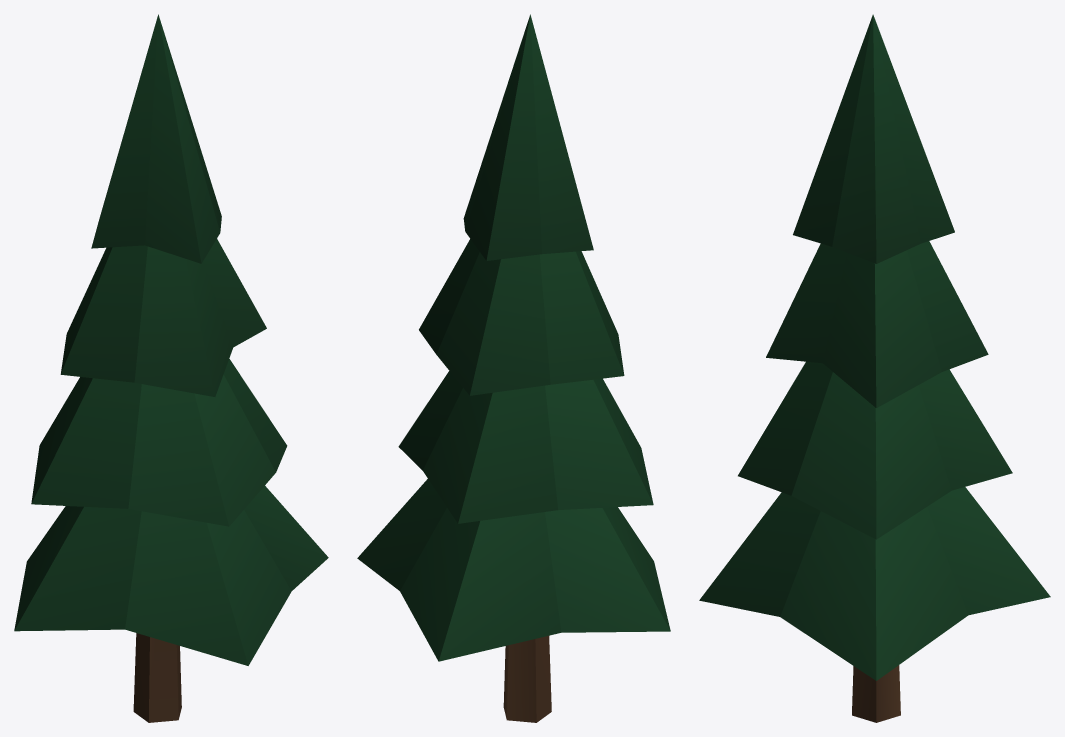
File: tree_pine_b_lod1.glb
The picture shows the model from 3 angles, left to right: view 1: azimuth 30°, elevation 25°; view 2: azimuth 150°, elevation 25°; view 3: azimuth 270°, elevation 25°; orthographic projection.
Parts seen in each view (by area): view 1: layer, layer.001, layer.002, layer.003, trunk; view 2: layer, layer.001, layer.002, layer.003, trunk; view 3: layer, layer.001, layer.002, layer.003, trunk.
Part boxes in pixels (box(x1,y1,x2,y2)): layer: box(14, 486, 328, 665); layer.001: box(31, 359, 287, 526); layer.002: box(60, 239, 266, 396); layer.003: box(91, 14, 221, 263); trunk: box(133, 633, 181, 722); layer: box(357, 479, 670, 661); layer.001: box(398, 371, 653, 523); layer.002: box(419, 239, 624, 395); layer.003: box(463, 14, 593, 260); trunk: box(503, 635, 551, 722); layer: box(699, 487, 1050, 680); layer.001: box(738, 361, 1012, 539); layer.002: box(766, 241, 988, 407); layer.003: box(793, 14, 954, 263); trunk: box(852, 665, 900, 722).
Size of the model in its own units: 2.24 by 4.76 by 2.18.
